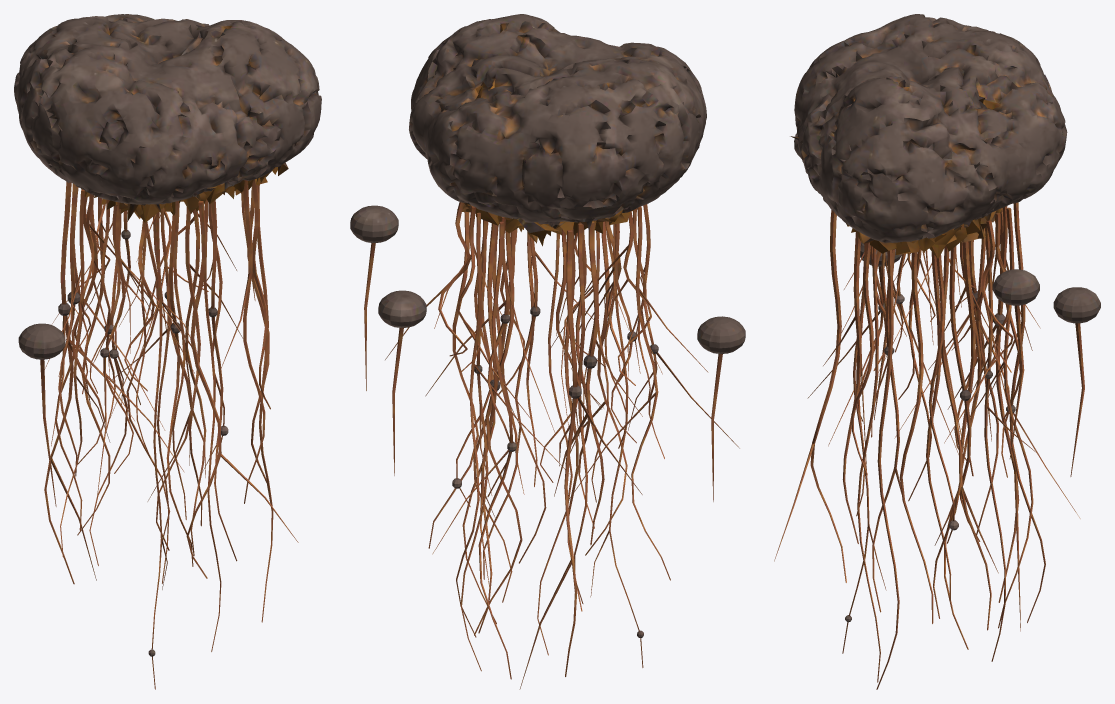
Rendered from jup_colony.glb.
3 renders of one model, left to right at view 1: azimuth 30°, elevation 25°; view 2: azimuth 150°, elevation 25°; view 3: azimuth 270°, elevation 25°, orthographic. The views are drawn at different scales.
Visible parts, largest first — view 1: colony_body; view 2: colony_body; view 3: colony_body.
Part boxes in pixels (x1=…): colony_body: x1=14, y1=14, x2=321, y2=689; colony_body: x1=350, y1=14, x2=745, y2=689; colony_body: x1=774, y1=14, x2=1100, y2=689.
Size of what is drawn, in the model's own units: 5.62 by 10.82 by 5.17.
Materials: 2 (2 with a texture image).
